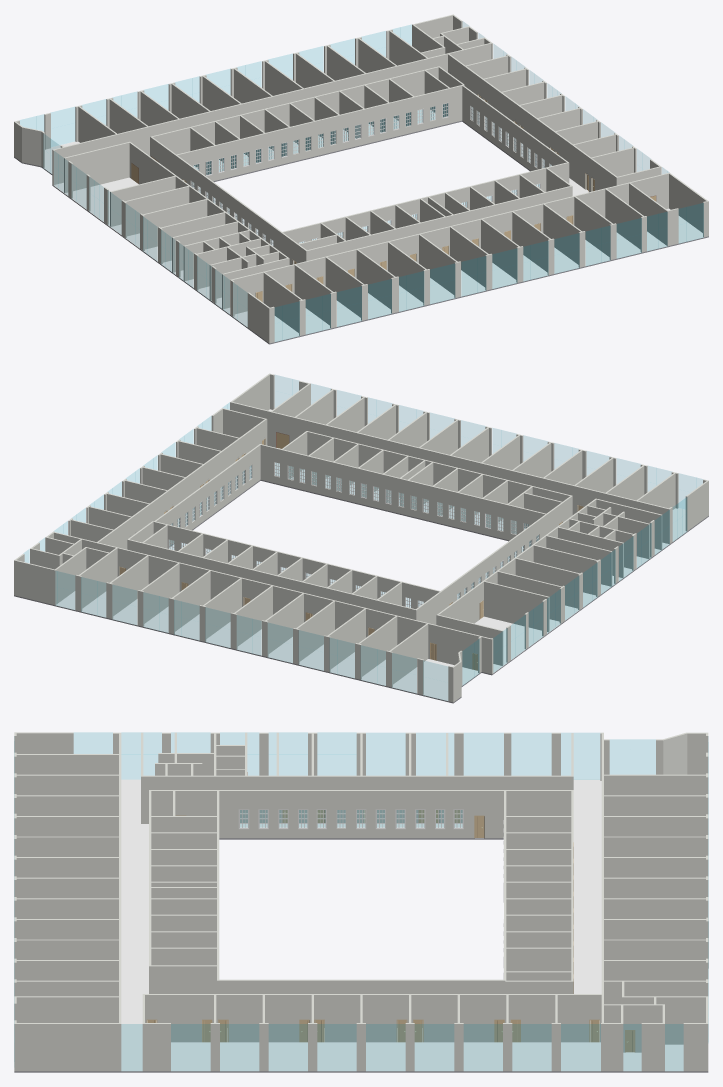
Rendered from 5楼墙体.gltf.
The picture shows the model from 3 angles, top to bottom: view 1: azimuth 30°, elevation 25°; view 2: azimuth 150°, elevation 25°; view 3: azimuth 270°, elevation 25°; orthographic projection. The views are drawn at different scales.
Visible parts, largest first — view 1: 常规 140 - 20+120 [733315], 常规 - 200mm [727917], 常规 - 200mm [535309], 常规 - 200mm [531928], 常规 - 200mm [538774], 常规 - 200mm [541075], 常规 - 200mm [726721], 常规 - 200mm [621058], 常规 - 200mm [540299], 常规 - 200mm [727738], 常规 - 200mm [537383], 常规 - 200mm [620616] (+45 smaller); view 2: 常规 140 - 20+120 [733315], 常规 - 200mm [726721], 常规 - 200mm [531928], 常规 - 200mm [535309], 常规 - 200mm [727917], 常规 - 200mm [538774], 常规 - 200mm [541075], 常规 - 200mm [621058], 常规 - 200mm [540299], 常规 - 200mm [727738], 常规 - 200mm [537455], 常规 - 200mm [620616] (+47 smaller); view 3: 常规 140 - 20+120 [733315], 常规 - 200mm [538774], 常规 - 200mm [621058], 常规 - 200mm [620616], 常规 - 200mm [717522], 常规 - 200mm [727738], 常规 - 200mm [535894], 常规 - 200mm [536398], 常规 - 200mm [536844], 常规 - 200mm [533426], 常规 - 200mm [533856], 常规 - 200mm [536081] (+56 smaller).
Boxes of the visible parts, <box> form: 常规 140 - 20+120 [733315]: <box>14,107,708,344</box>; 常规 - 200mm [727917]: <box>177,85,462,185</box>; 常规 - 200mm [535309]: <box>230,172,669,314</box>; 常规 - 200mm [531928]: <box>54,43,491,184</box>; 常规 - 200mm [538774]: <box>448,54,618,192</box>; 常规 - 200mm [541075]: <box>150,66,438,156</box>; 常规 - 200mm [726721]: <box>282,162,569,243</box>; 常规 - 200mm [621058]: <box>151,137,306,264</box>; 常规 - 200mm [540299]: <box>305,185,572,261</box>; 常规 - 200mm [727738]: <box>461,85,567,170</box>; 常规 - 200mm [537383]: <box>64,141,130,192</box>; 常规 - 200mm [620616]: <box>129,142,287,259</box>; 常规 140 - 20+120 [733315]: <box>14,409,708,703</box>; 常规 - 200mm [726721]: <box>259,444,545,544</box>; 常规 - 200mm [531928]: <box>54,532,490,673</box>; 常规 - 200mm [535309]: <box>230,401,670,543</box>; 常规 - 200mm [727917]: <box>155,521,440,609</box>; 常规 - 200mm [538774]: <box>97,418,267,549</box>; 常规 - 200mm [541075]: <box>128,539,417,620</box>; 常规 - 200mm [621058]: <box>416,496,571,624</box>; 常规 - 200mm [540299]: <box>306,431,572,515</box>; 常规 - 200mm [727738]: <box>153,444,260,545</box>; 常规 - 200mm [537455]: <box>484,581,549,632</box>; 常规 - 200mm [620616]: <box>437,499,596,623</box>; 常规 140 - 20+120 [733315]: <box>14,779,708,1072</box>; 常规 - 200mm [538774]: <box>142,994,601,1042</box>; 常规 - 200mm [621058]: <box>151,790,571,838</box>; 常规 - 200mm [620616]: <box>143,775,571,823</box>; 常规 - 200mm [717522]: <box>14,1023,118,1071</box>; 常规 - 200mm [727738]: <box>219,979,506,1027</box>; 常规 - 200mm [535894]: <box>14,996,118,1022</box>; 常规 - 200mm [536398]: <box>16,877,118,898</box>; 常规 - 200mm [536844]: <box>16,774,118,795</box>; 常规 - 200mm [533426]: <box>604,877,705,898</box>; 常规 - 200mm [533856]: <box>604,774,705,795</box>; 常规 - 200mm [536081]: <box>16,960,118,980</box>.
Bounding box in the file's own units: 59.48 × 4.64 × 59.89.
